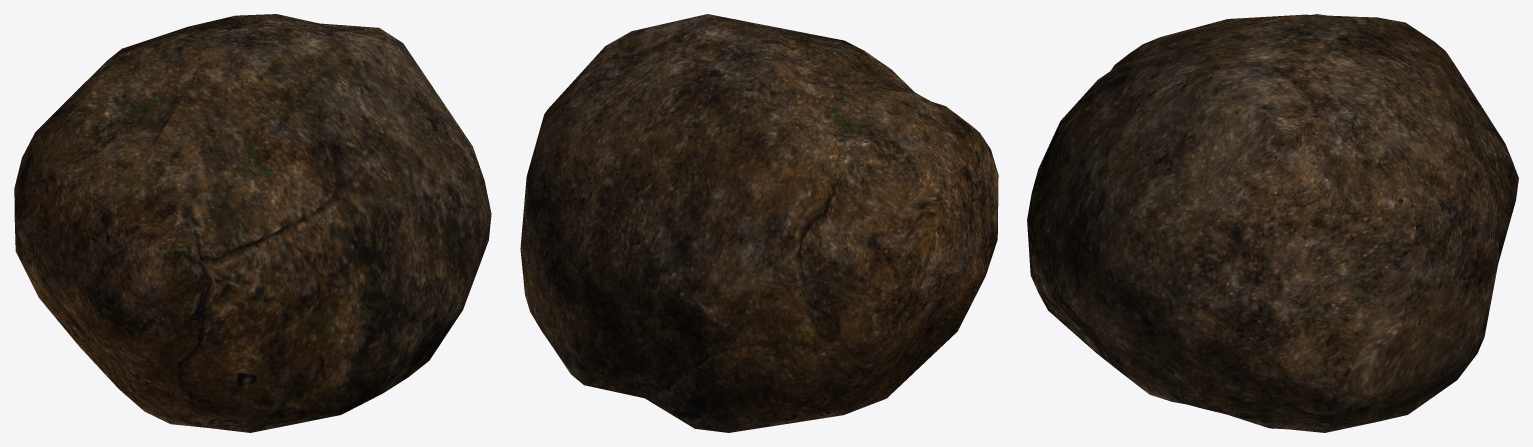
File: SM_TI_Rock_2.fbx
3 renders of one model, left to right at view 1: azimuth 30°, elevation 25°; view 2: azimuth 150°, elevation 25°; view 3: azimuth 270°, elevation 25°, orthographic. The views are drawn at different scales.
Parts seen in each view (by area): view 1: SM_TI_Rock_2; view 2: SM_TI_Rock_2; view 3: SM_TI_Rock_2.
Boxes of the visible parts, left/top/right/bottom form: SM_TI_Rock_2: left=14, top=14, right=491, bottom=432; SM_TI_Rock_2: left=520, top=14, right=998, bottom=432; SM_TI_Rock_2: left=1027, top=14, right=1518, bottom=432.
Bounding box in the file's own units: 7.69 × 7.55 × 6.35.
